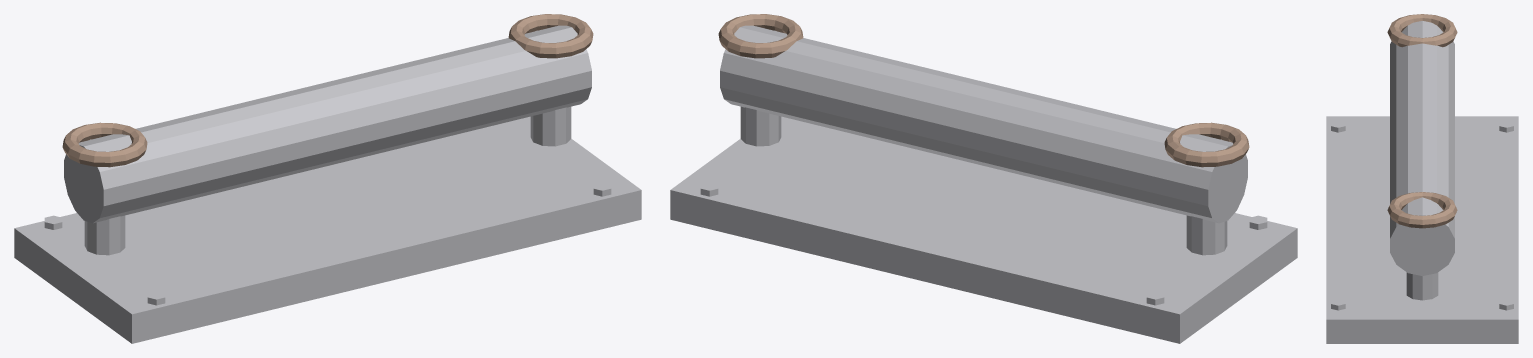
File: pipeline_common.glb
The picture shows the model from 3 angles, left to right: view 1: azimuth 30°, elevation 25°; view 2: azimuth 150°, elevation 25°; view 3: azimuth 270°, elevation 25°; orthographic projection. The views are drawn at different scales.
Parts seen in each view (by area): view 1: pipeline; view 2: pipeline; view 3: pipeline.
Part boxes in pixels (x1=…): pipeline: x1=14, y1=14, x2=641, y2=343; pipeline: x1=670, y1=14, x2=1297, y2=343; pipeline: x1=1326, y1=14, x2=1518, y2=343.
Size of the model in its own units: 2.94 by 0.84 by 1.15.
